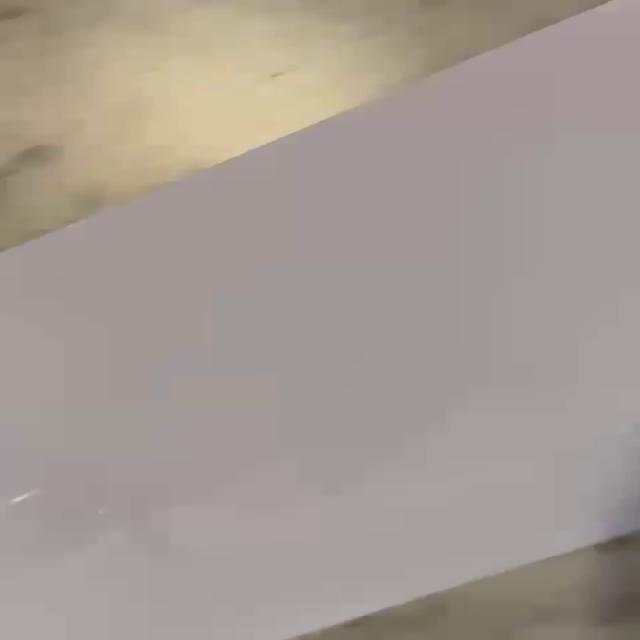road: (0, 0, 640, 640)
